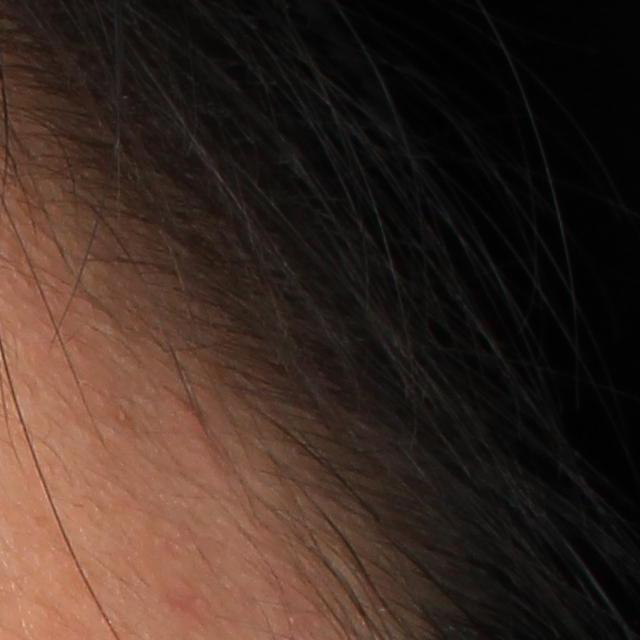papule: (184, 397, 208, 440)
